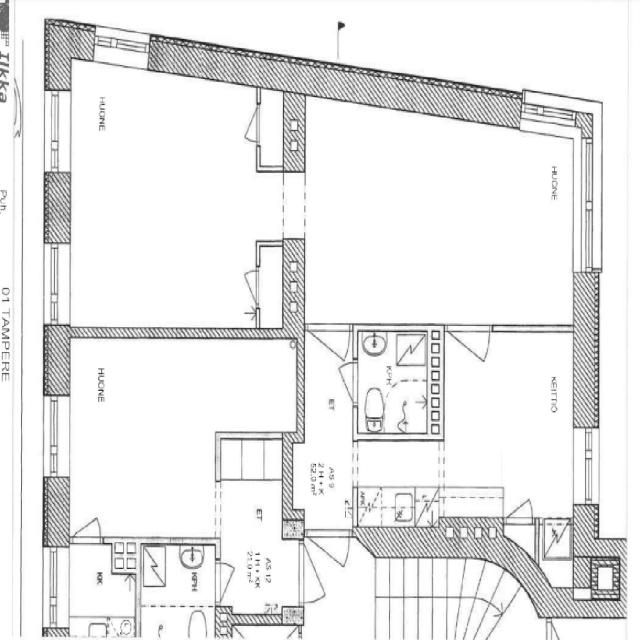door: (450, 319, 494, 371), (238, 101, 266, 154), (237, 262, 265, 312), (69, 511, 105, 547), (212, 555, 238, 604), (503, 494, 538, 530)
window: (568, 118, 606, 284), (37, 386, 72, 490), (38, 235, 72, 339), (39, 84, 73, 184), (573, 424, 603, 521), (489, 313, 572, 343), (38, 541, 64, 629)
zone: (281, 129, 593, 318), (62, 77, 268, 338), (56, 374, 223, 542), (437, 323, 577, 513), (216, 434, 303, 630), (290, 334, 356, 537), (353, 324, 441, 440), (139, 538, 218, 639), (59, 541, 140, 638)
